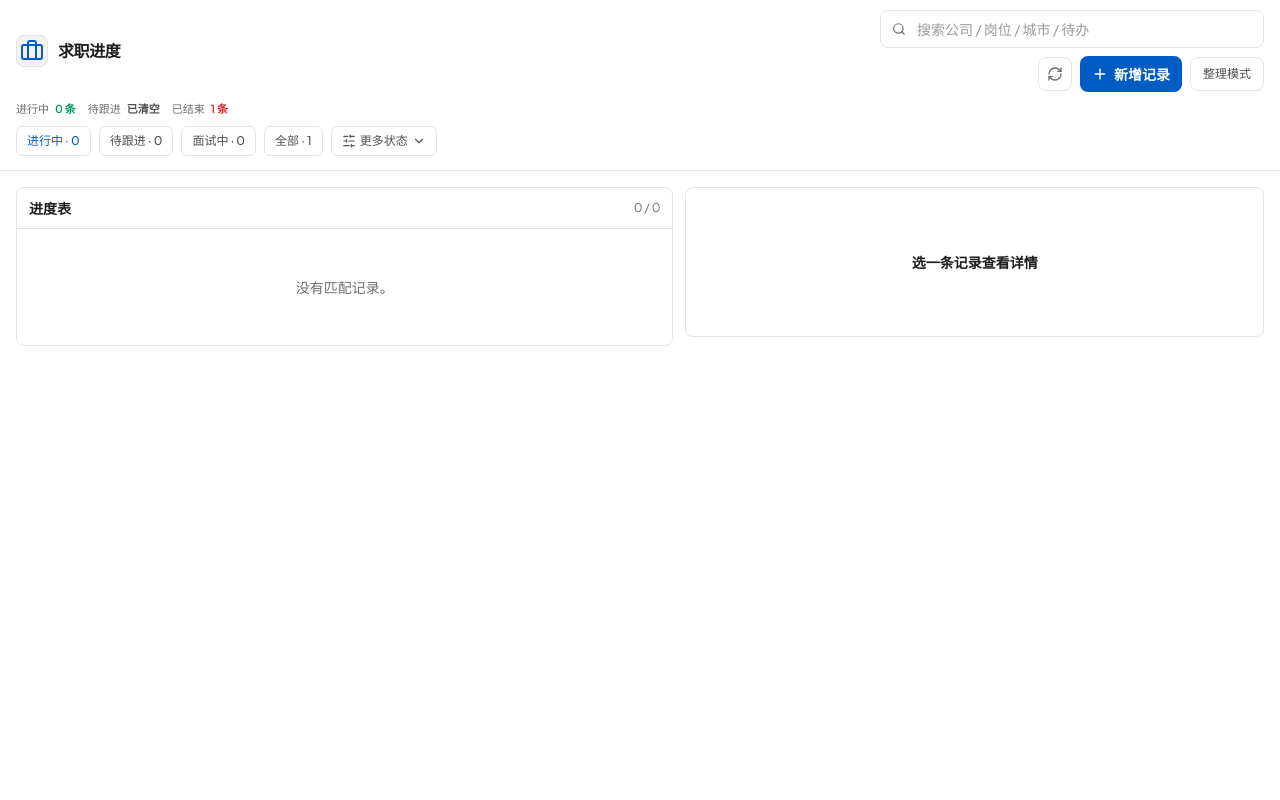
it: JobTracker › treats round-specific rejected applications as closed and avoids follow-up wording in detail
The width and height of the screenshot is (1280, 800).
Click the button "更多状态" at (384, 141), box x1=331 y1=126 x2=437 y2=156
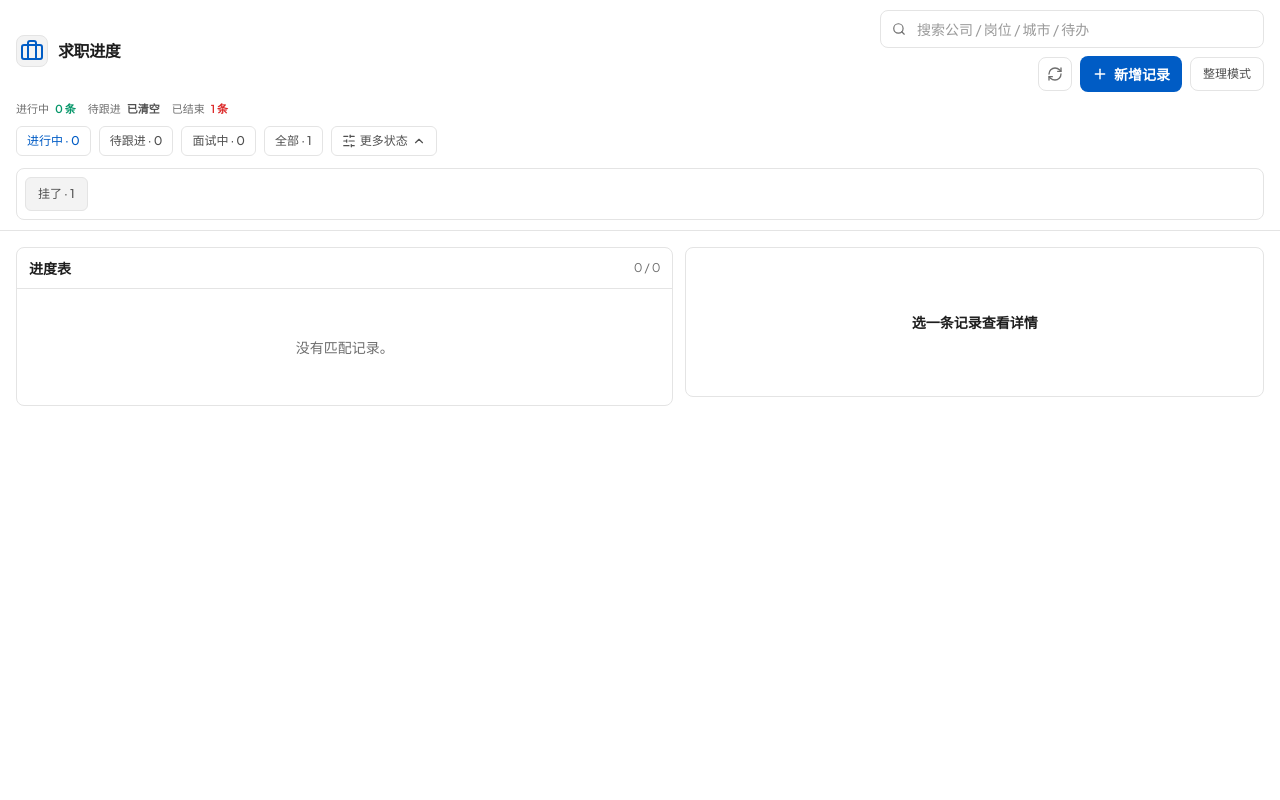
Click the button "挂了 · 1" at (56, 194), box x1=25 y1=177 x2=88 y2=211
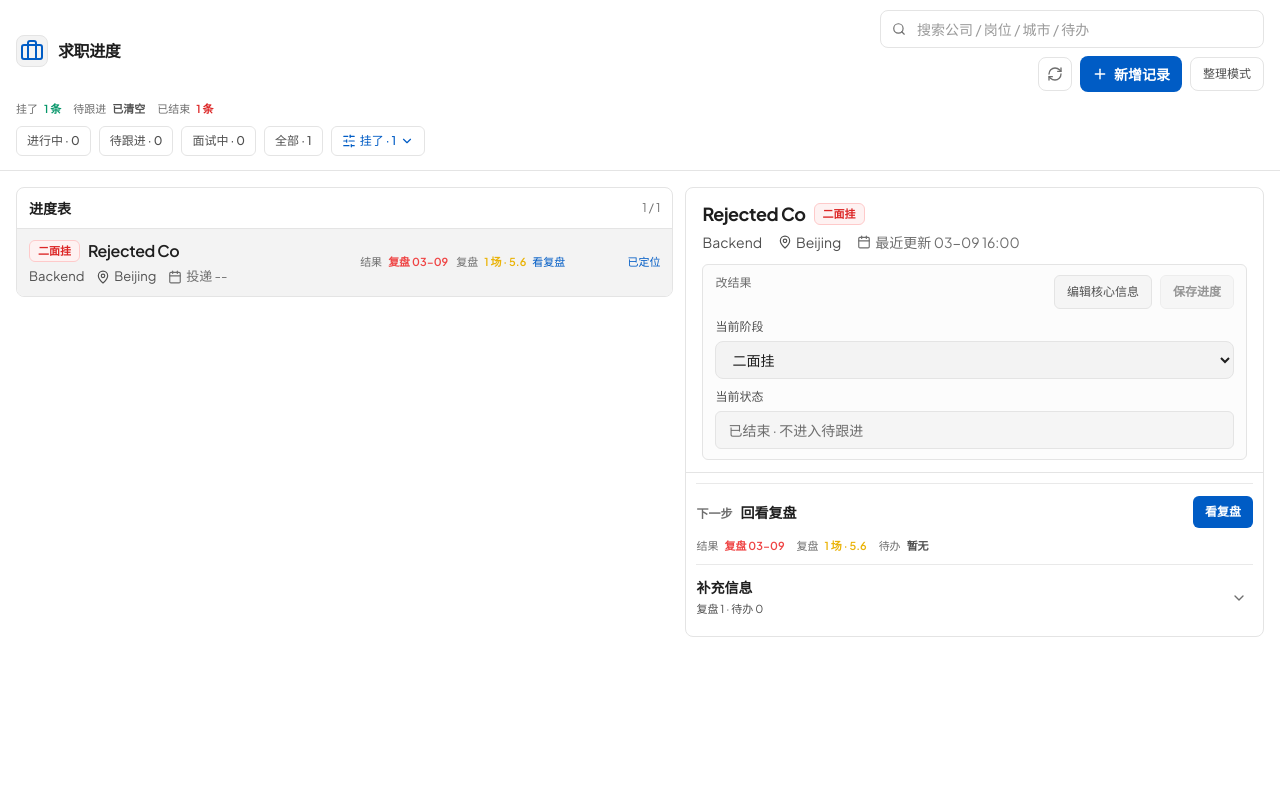
Check: the text "Rejected Co" is shown, box x1=88 y1=239 x2=179 y2=263
Check: the text "二面挂" below "进度表" is shown, box x1=38 y1=244 x2=71 y2=257
Check: the text "已结束 · 不进入待跟进" is shown, box x1=715 y1=411 x2=1234 y2=449
Click the button "看复盘" at (1223, 512), box x1=1193 y1=496 x2=1253 y2=528
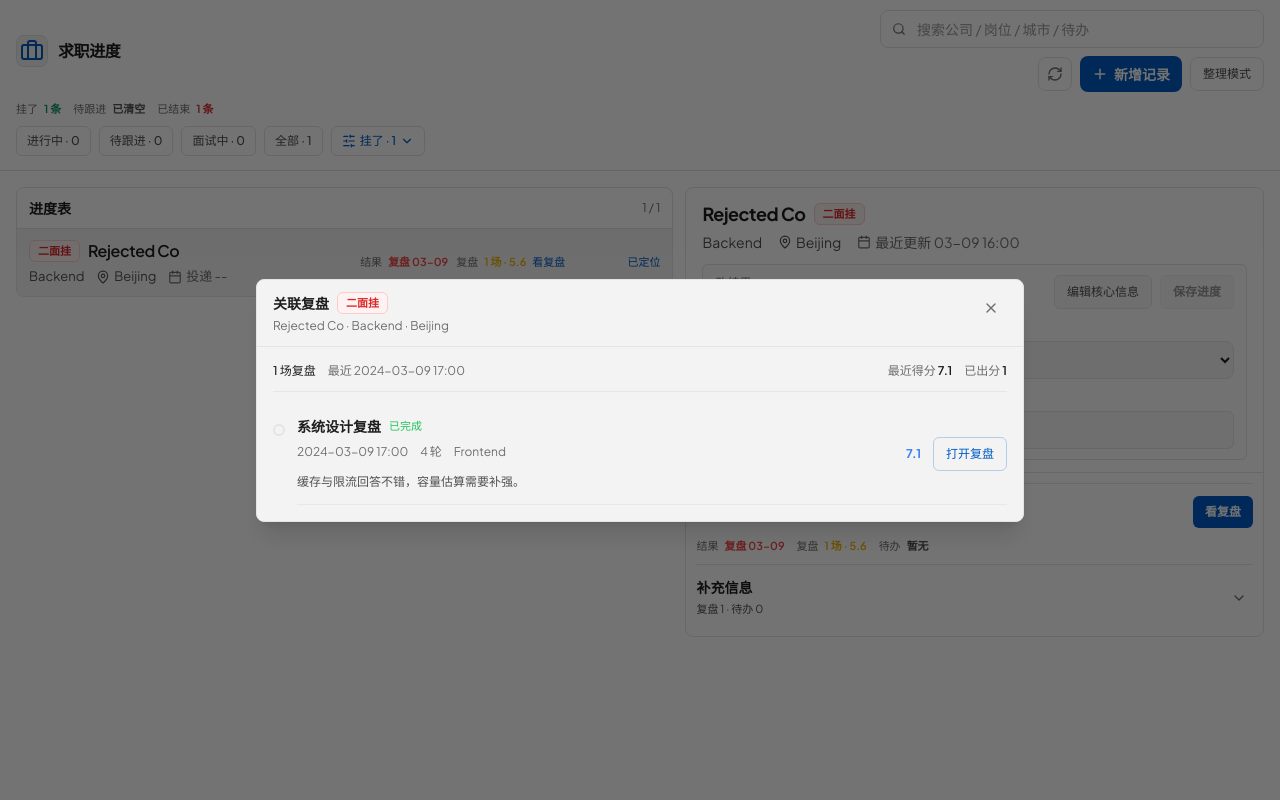
Check: the text "1 场复盘" is shown, box x1=273 y1=363 x2=316 y2=379
